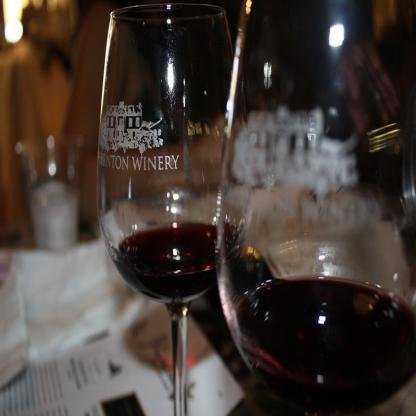drinking: (215, 0, 415, 415), (98, 3, 250, 415)
